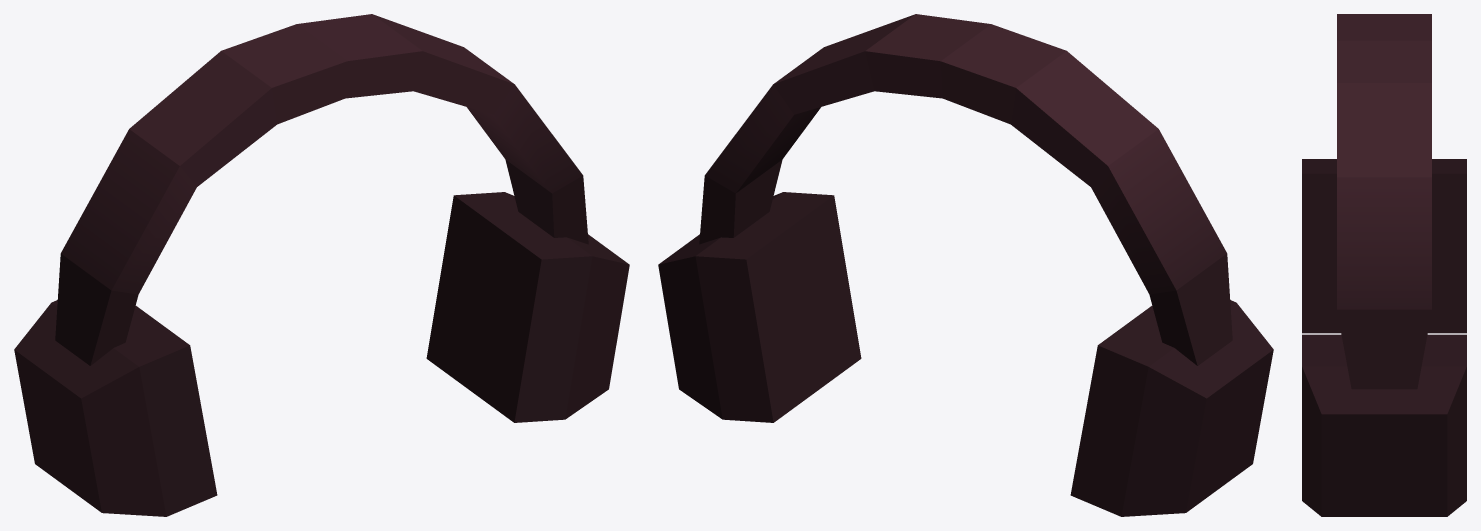
File: 05 hps color.fbx
The picture shows the model from 3 angles, left to right: view 1: azimuth 30°, elevation 25°; view 2: azimuth 150°, elevation 25°; view 3: azimuth 270°, elevation 25°; orthographic projection. The views are drawn at different scales.
Parts seen in each view (by area): view 1: headphones; view 2: headphones; view 3: headphones.
Boxes of the visible parts, x1=… form: headphones: x1=14, y1=14, x2=629, y2=516; headphones: x1=658, y1=14, x2=1273, y2=516; headphones: x1=1302, y1=14, x2=1466, y2=516.
Size of the model in its own units: 59.17 by 213 by 146.
